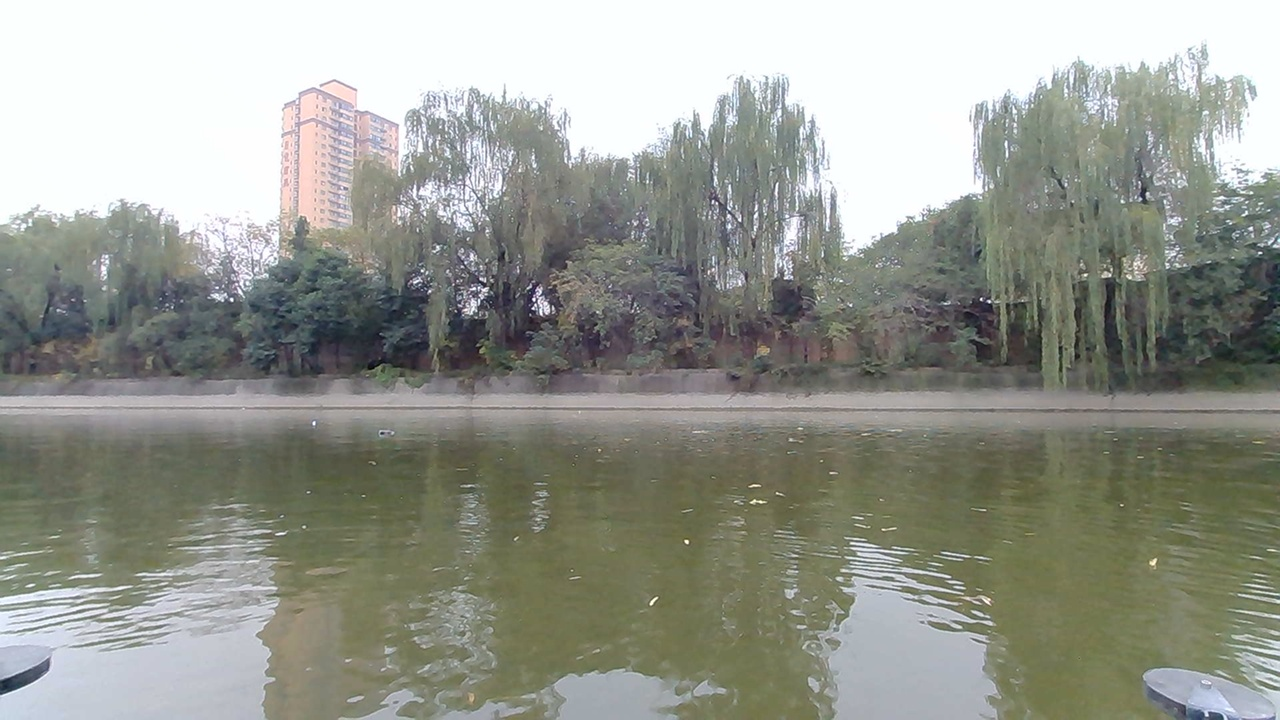bottle: (371, 420, 408, 444)
